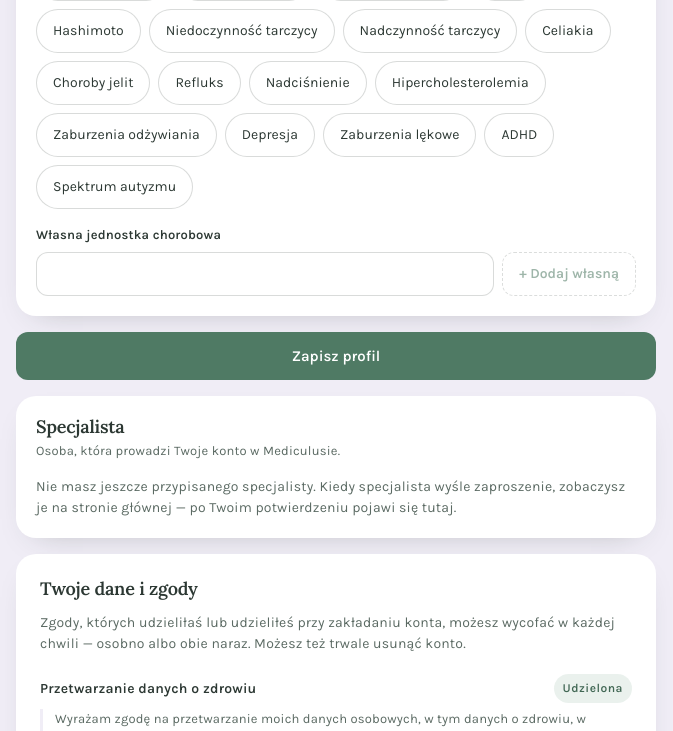
Test: the health fields hold what is stored and nothing else › saves with every field left empty
The width and height of the screenshot is (673, 731).
(page scrolled)
Click the button "Zapisz profil". click: (336, 356)
box: [16,332,656,380]
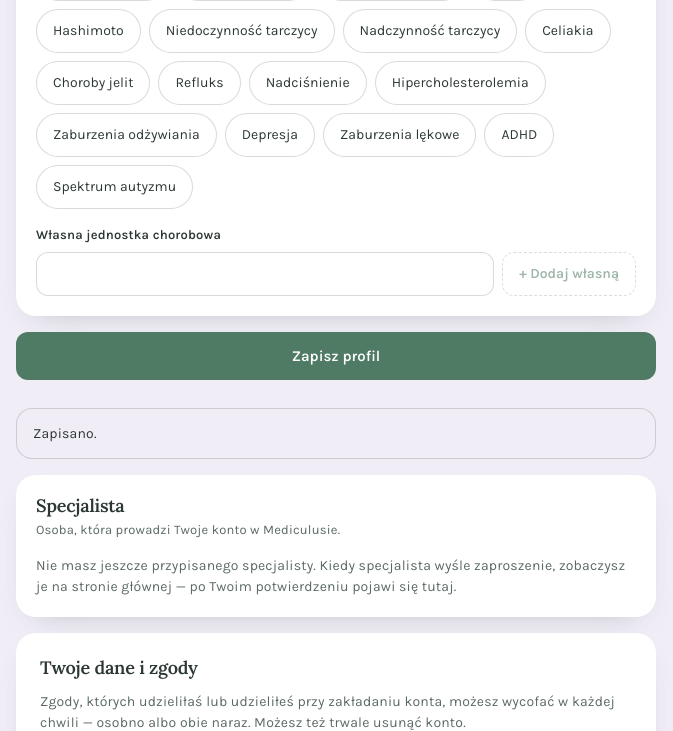
Expected: the message reads "Zapisano.", [33,425,97,442]
